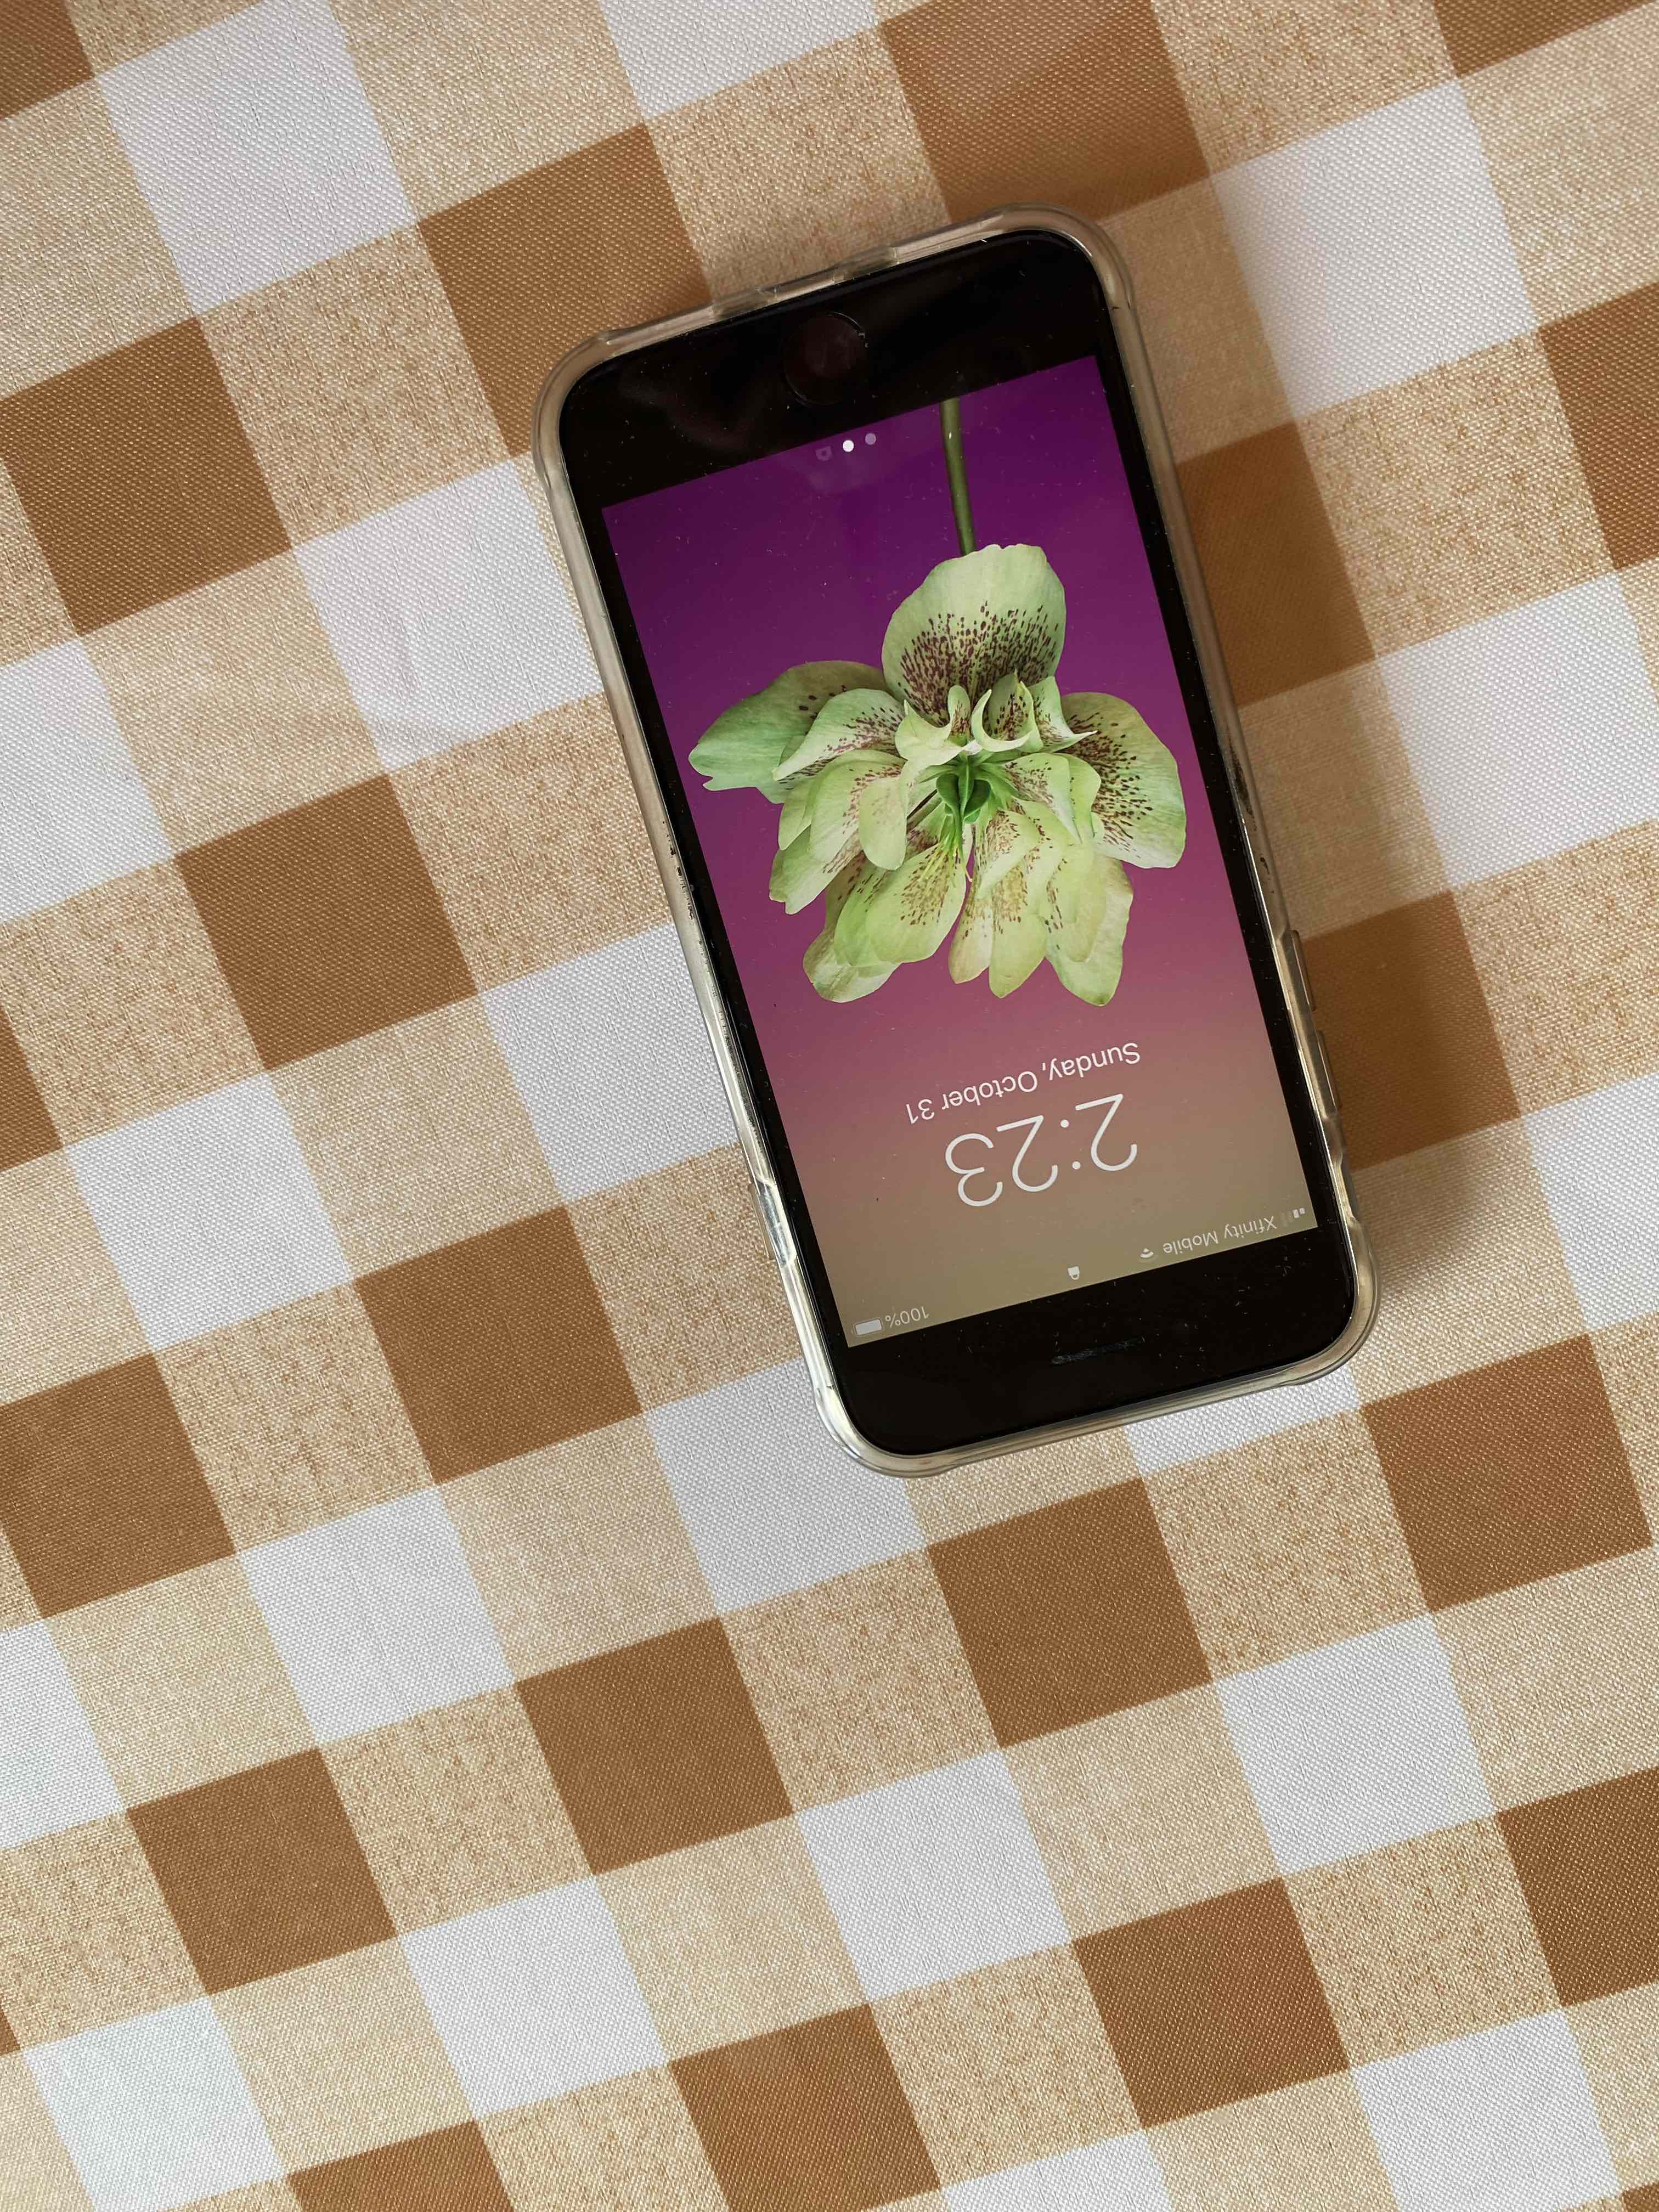Cell Phone: (538, 206, 1384, 1484)
